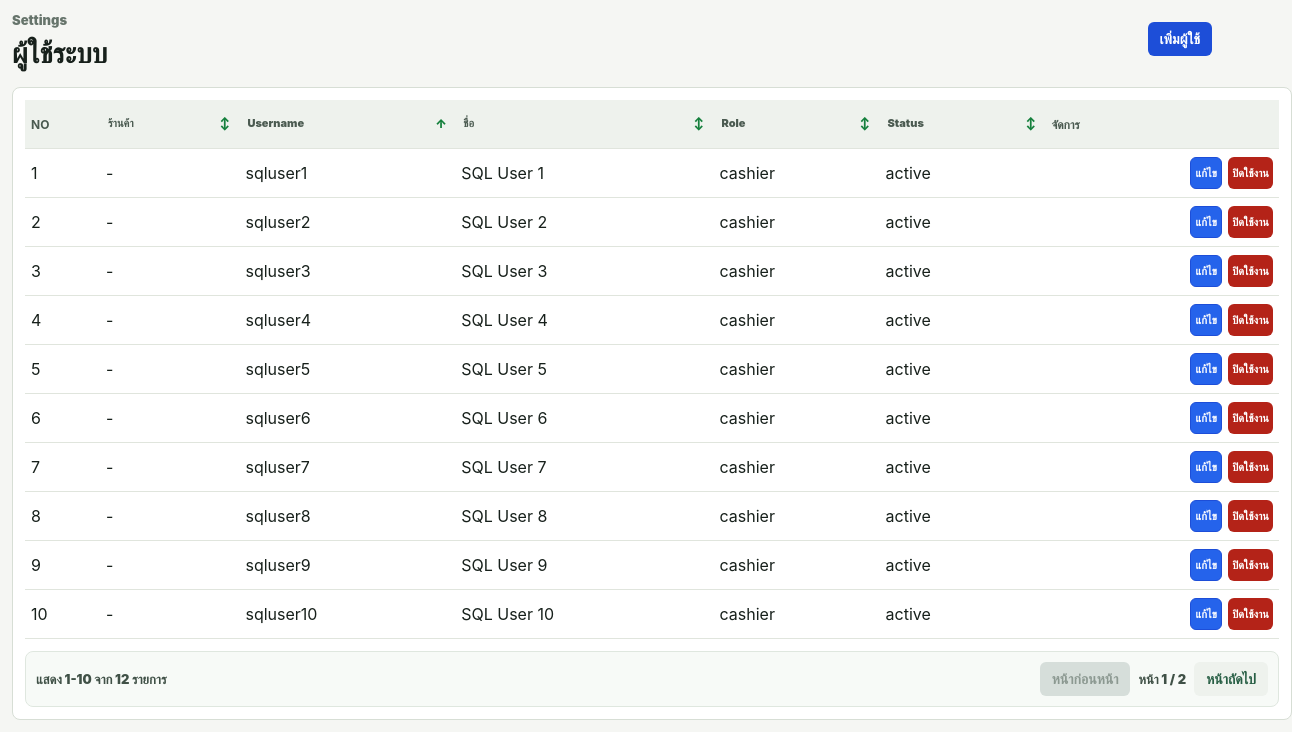
Test: UserManagementPage › paginates long user tables
The width and height of the screenshot is (1292, 732).
Check: the cell "sqluser10" is shown, box top-left (240, 590), bottom-right (455, 638)
Check: the cell "sqluser11" is not shown
Click the button "หน้าถัดไป" at [1231, 679], box top-left (1194, 662), bottom-right (1268, 696)
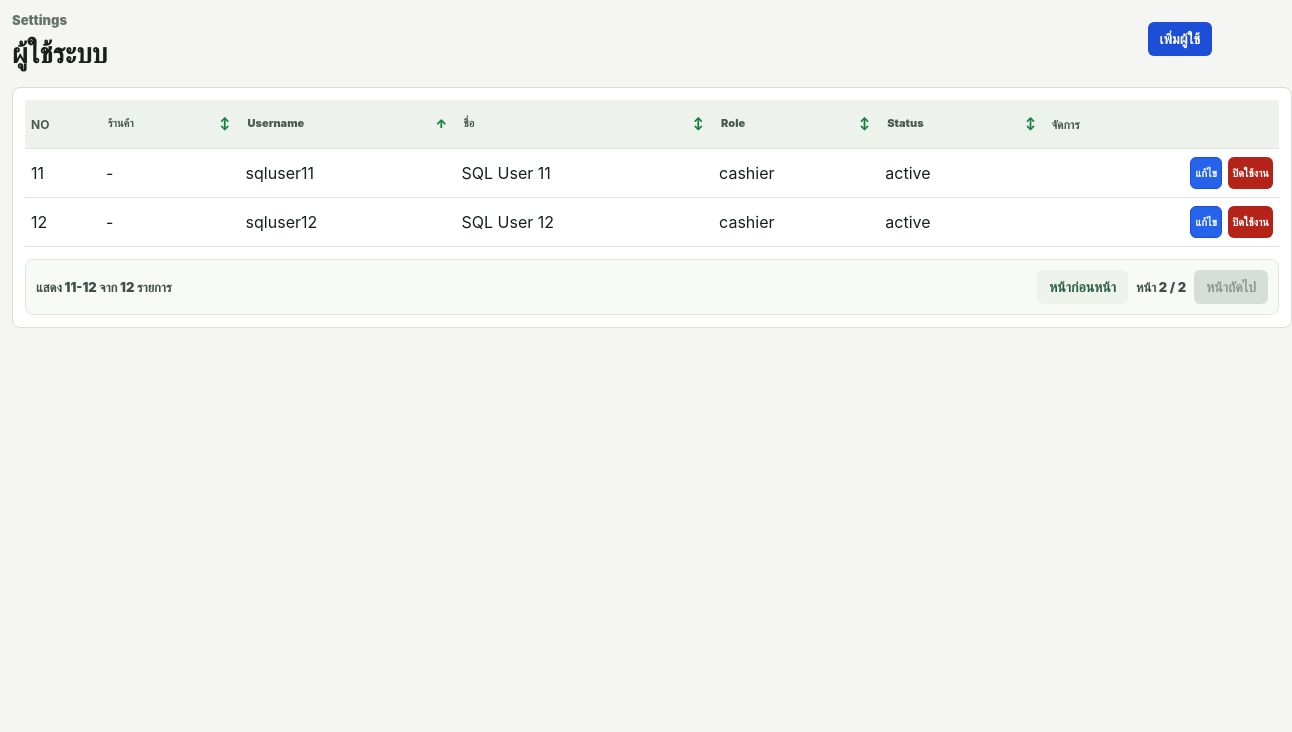
Check: the cell "sqluser11" is shown, box top-left (240, 148), bottom-right (456, 198)
Check: the cell "sqluser12" is shown, box top-left (240, 198), bottom-right (456, 246)
Check: the text "แสดง 11-12 จาก 12 รายการ" is shown, box top-left (36, 278), bottom-right (172, 296)
